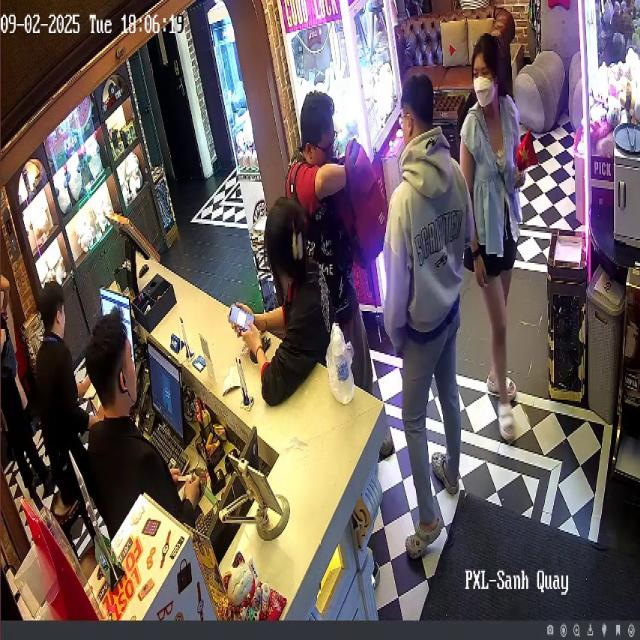khach: (457, 12, 551, 488), (395, 58, 473, 575), (291, 77, 400, 437), (240, 115, 356, 432)
nhan vien: (85, 295, 188, 558), (33, 258, 100, 562)
